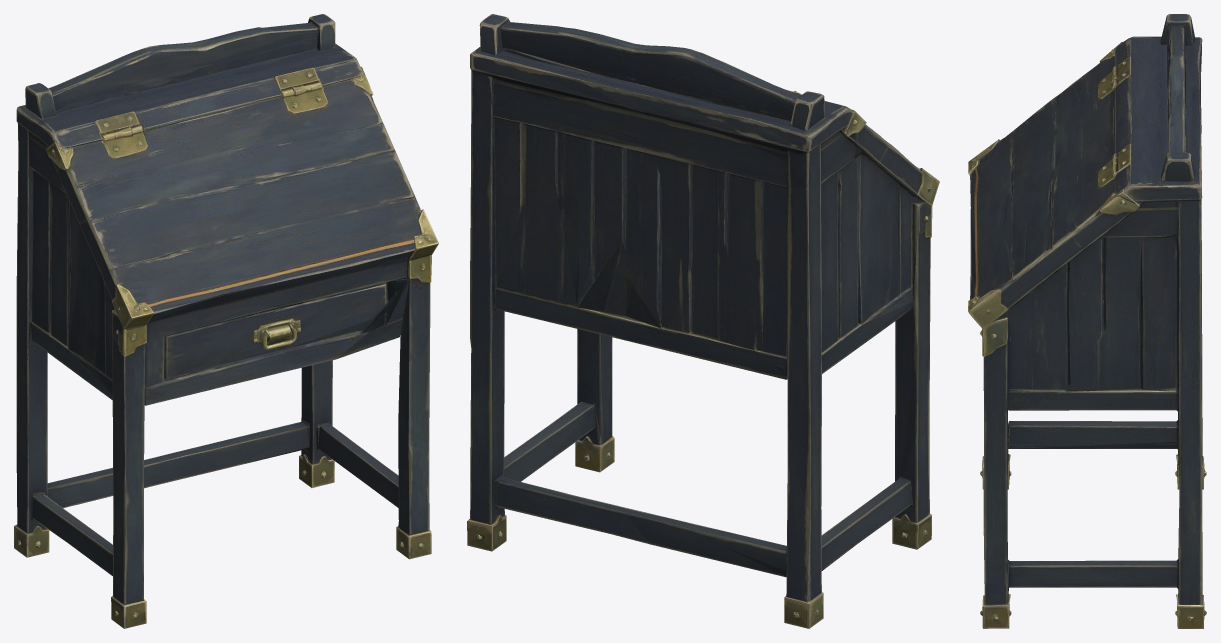
File: evidence_desk.glb
The picture shows the model from 3 angles, left to right: view 1: azimuth 30°, elevation 25°; view 2: azimuth 150°, elevation 25°; view 3: azimuth 270°, elevation 25°; orthographic projection. The views are drawn at different scales.
Bounding box in the file's own units: 1.3 × 1.9 × 0.8556.
1 material, 1 textured.
